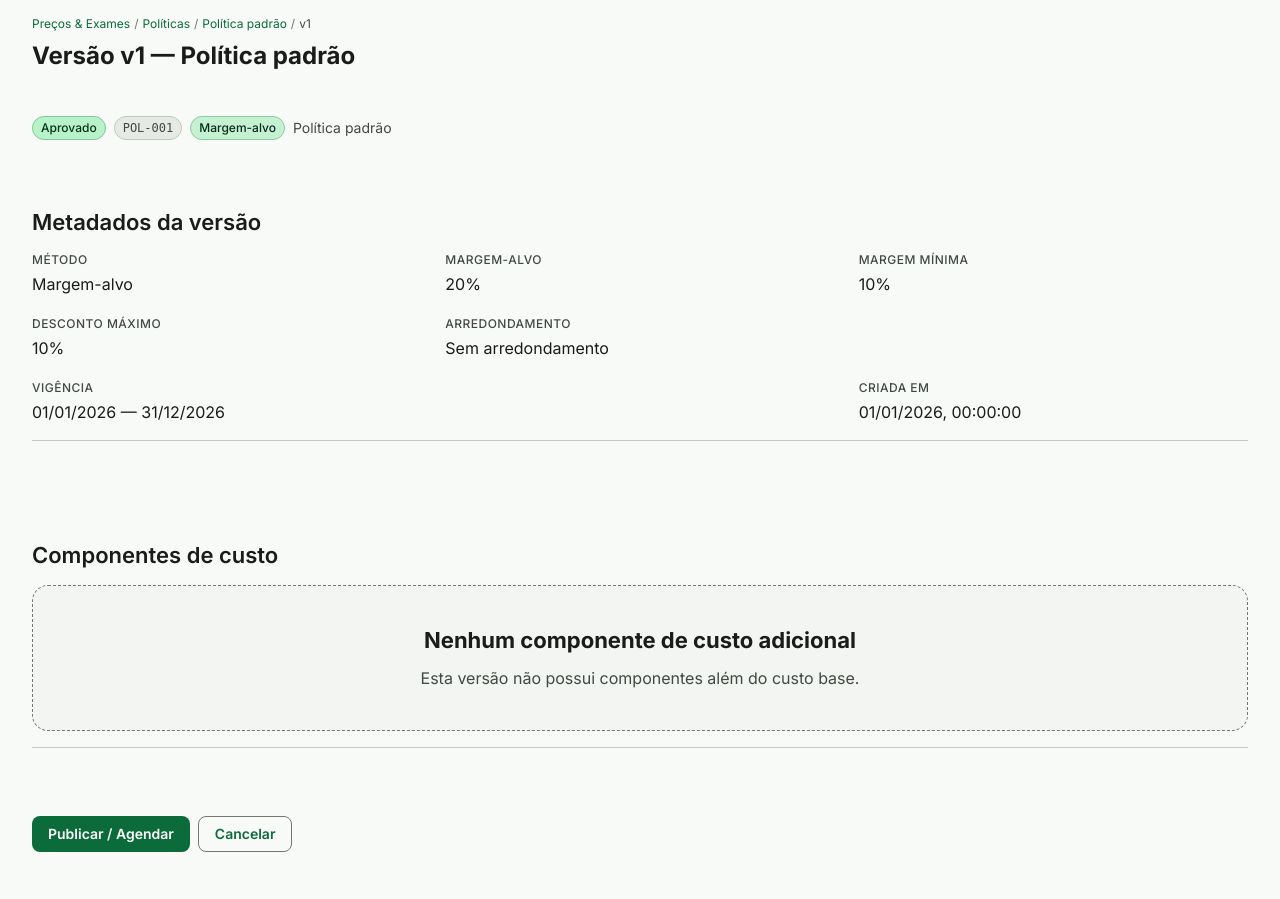
Pricing policy version workflow (UI-WF01..09) › UI-WF07: RPC failure surfaces a friendly mapped error
Expected: the heading "Versão v1 — Política padrão" is shown, [32,41,355,70]
Click the button "Publicar / Agendar" at (111, 834), box [32,816,190,852]
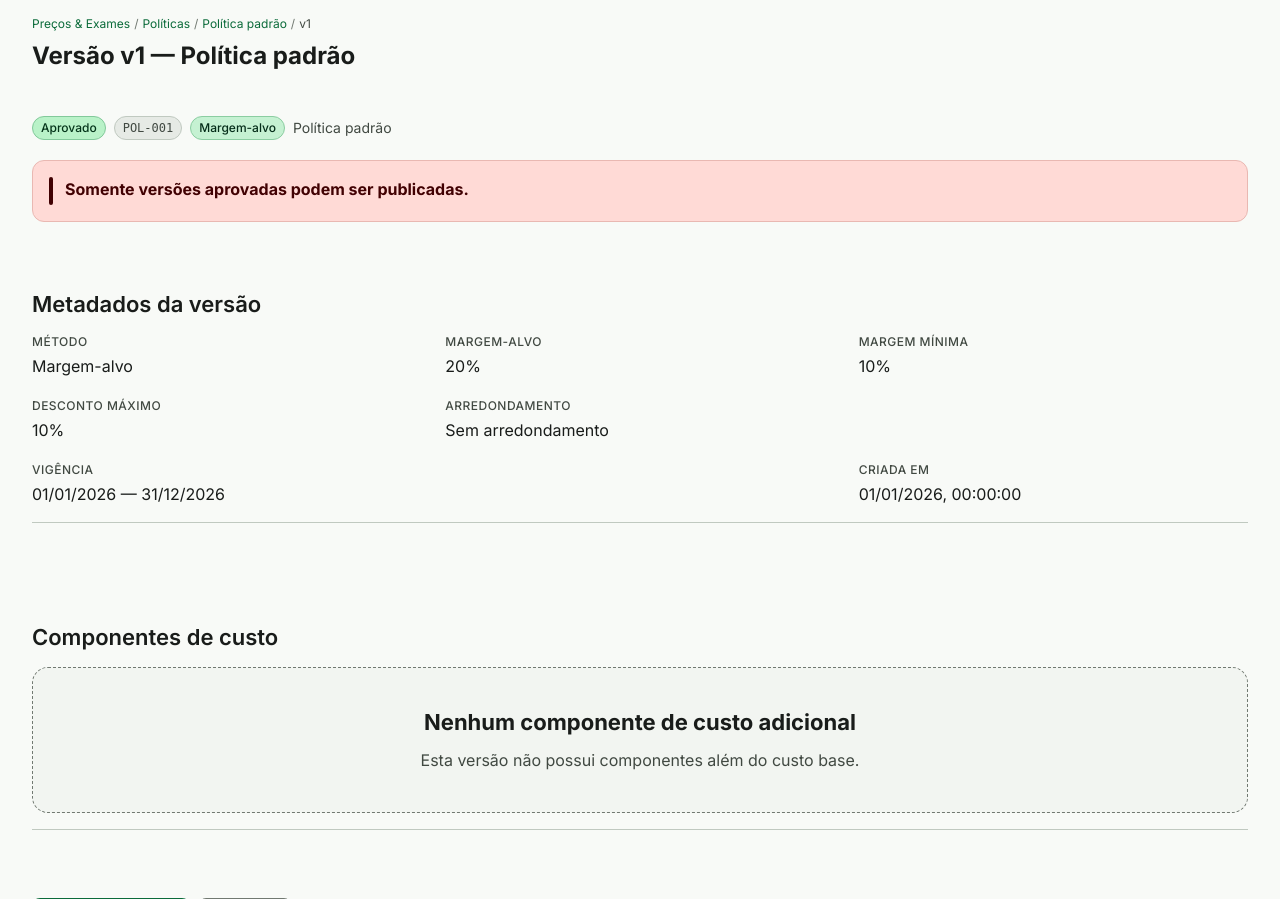
Now the text "Somente versões aprovadas podem ser publicadas." is shown, box [65,179,469,199]
